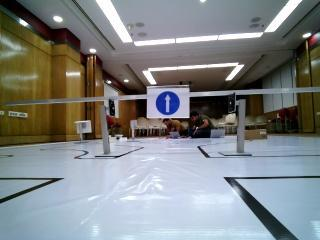straight: (148, 83, 191, 120)
